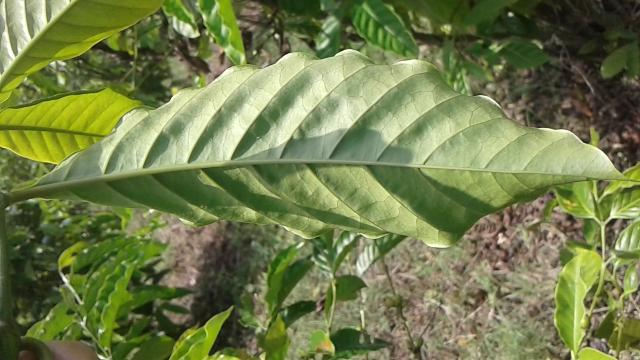healthy: (30, 50, 630, 248)
